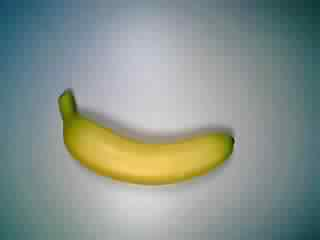banana: (55, 88, 240, 190)
